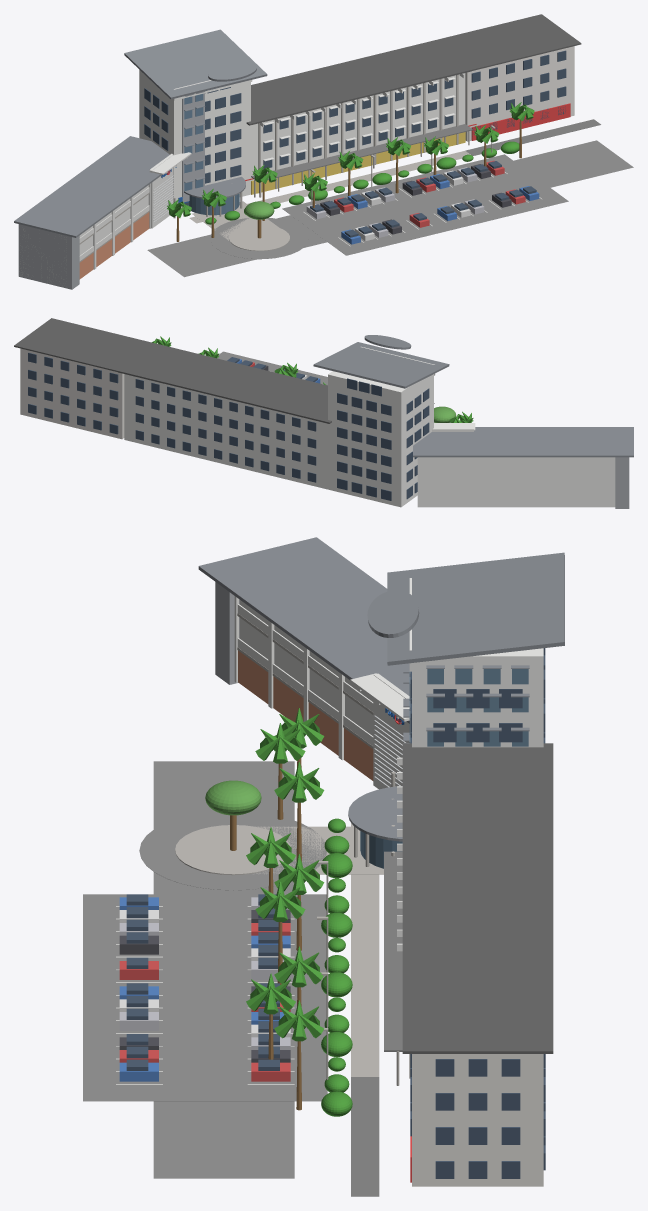
File: fsktm.glb
3 renders of one model, top to bottom at view 1: azimuth 30°, elevation 25°; view 2: azimuth 150°, elevation 25°; view 3: azimuth 270°, elevation 25°, orthographic. The views are drawn at different scales.
Parts seen in each view (by area): view 1: Parking_Lot_Asphalt, Wing_Roof, Wing_Main, LWing_Sloping_Roof, Parking_Lot, Tower_Main_Body, Tower_Sloped_Roof, Lab_Block_Main, Lab_Block_Roof, LWing_End_Cap, Roundabout_Road, Wing_Accent_Front (+14 smaller); view 2: Wing_Main, LWing_Main_Core, Tower_Main_Body, Wing_Roof, LWing_Sloping_Roof, Lab_Block_Main, Lab_Block_Roof, Tower_Sloped_Roof, LWing_End_Cap, Parking_Lot_Asphalt, Tower_Roof_Nose, Roundabout_Palm_Canopy; view 3: Parking_Lot_Asphalt, Wing_Roof, Parking_Lot, Lab_Block_Roof, Tower_Sloped_Roof, LWing_Sloping_Roof, Lab_Block_Main, Tower_Main_Body, Roundabout_Road, Walkway_Path, LWing_Terracotta_Base, Roundabout_Curb (+12 smaller).
Part boxes in pixels (<box>): Parking_Lot_Asphalt: <box>282,154,568,255</box>; Wing_Roof: <box>246,42,470,125</box>; Wing_Main: <box>251,73,465,180</box>; LWing_Sloping_Roof: <box>14,136,169,237</box>; Parking_Lot: <box>147,140,633,277</box>; Tower_Main_Body: <box>139,70,250,208</box>; Tower_Sloped_Roof: <box>124,29,267,99</box>; Lab_Block_Main: <box>465,46,574,141</box>; Lab_Block_Roof: <box>426,14,581,72</box>; LWing_End_Cap: <box>18,224,79,289</box>; Roundabout_Road: <box>210,218,308,259</box>; Wing_Accent_Front: <box>251,132,465,194</box>; Wing_Main: <box>124,374,327,489</box>; LWing_Main_Core: <box>417,457,615,507</box>; Tower_Main_Body: <box>328,371,433,507</box>; Wing_Roof: <box>118,345,331,423</box>; LWing_Sloping_Roof: <box>413,427,633,457</box>; Lab_Block_Main: <box>20,348,124,439</box>; Lab_Block_Roof: <box>14,318,160,372</box>; Tower_Sloped_Roof: <box>313,342,449,388</box>; LWing_End_Cap: <box>615,457,629,508</box>; Parking_Lot_Asphalt: <box>217,351,434,403</box>; Tower_Roof_Nose: <box>364,335,411,349</box>; Roundabout_Palm_Canopy: <box>434,406,456,422</box>; Parking_Lot_Asphalt: <box>83,894,327,1101</box>; Wing_Roof: <box>402,743,553,947</box>; Parking_Lot: <box>153,761,294,1178</box>; Lab_Block_Roof: <box>402,944,553,1053</box>; Tower_Sloped_Roof: <box>387,552,564,665</box>; LWing_Sloping_Roof: <box>198,537,409,723</box>; Lab_Block_Main: <box>412,1054,543,1186</box>; Tower_Main_Body: <box>412,648,543,747</box>; Roundabout_Road: <box>139,811,326,890</box>; Walkway_Path: <box>351,823,379,1076</box>; LWing_Terracotta_Base: <box>238,650,373,780</box>; Roundabout_Curb: <box>175,825,290,875</box>.
Size of what is drawn, in the model's own units: 139 by 30.49 by 51.26.
